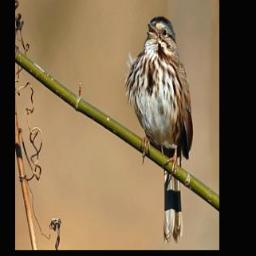Sparrow: (124, 15, 194, 243)
